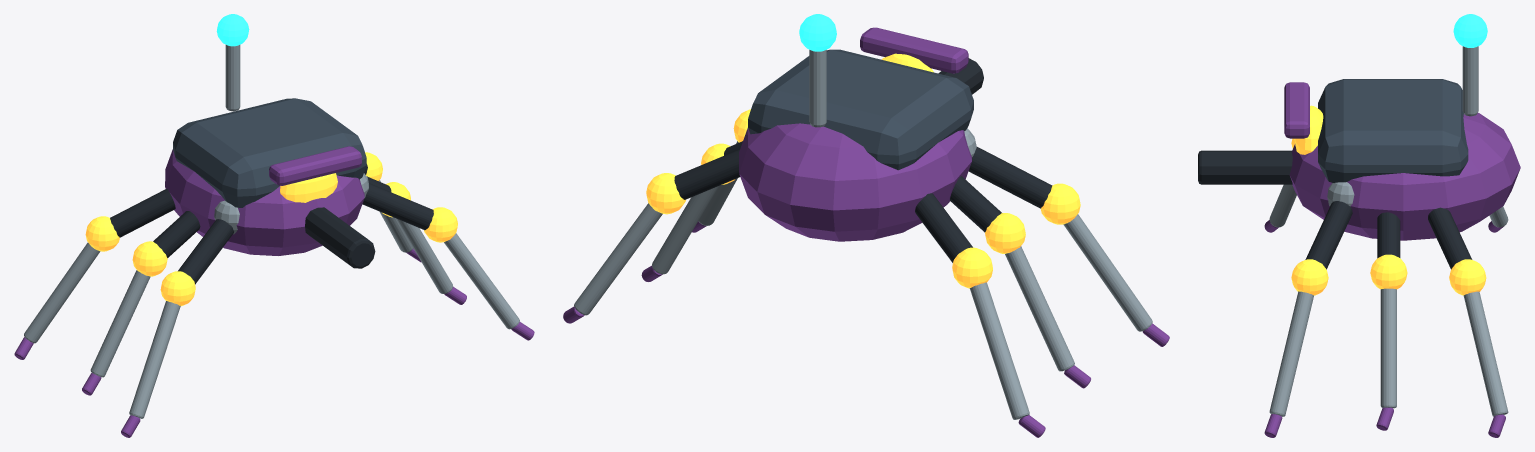
Rendered from mech_reaper.glb.
3 views of the same model, side by side, from view 1: azimuth 30°, elevation 25°; view 2: azimuth 150°, elevation 25°; view 3: azimuth 270°, elevation 25° (orthographic). The views are drawn at different scales.
Parts seen in each view (by area): view 1: Top armored carapace, Reaper central abdomen, Forward stinger cannon, Forward sensor brow, Lower pointed leg, Lower pointed leg.002, Lower pointed leg.001, Lower pointed leg.003, Upper articulated leg.003, Upper articulated leg.002, Upper articulated leg, Lower pointed leg.004 (+10 smaller); view 2: Reaper central abdomen, Top armored carapace, Forward sensor brow, Lower pointed leg.002, Lower pointed leg, Lower pointed leg.001, Lower pointed leg.005, Upper articulated leg, Upper articulated leg.005, Lower pointed leg.004, Upper articulated leg.002, Upper articulated leg.001 (+8 smaller); view 3: Top armored carapace, Reaper central abdomen, Forward stinger cannon, Lower pointed leg.003, Lower pointed leg.005, Lower pointed leg.004, Upper articulated leg.003, Forward sensor brow, Upper articulated leg.005, Rear sensor mast, Knee joint.005, Knee joint.004 (+6 smaller).
Boxes of the visible parts, box(x1,y1,x2,y2) form: Top armored carapace: box(173, 98, 366, 207); Reaper central abdomen: box(165, 149, 364, 255); Forward stinger cannon: box(305, 207, 375, 268); Forward sensor brow: box(269, 146, 361, 185); Lower pointed leg: box(129, 301, 180, 418); Lower pointed leg.002: box(24, 242, 100, 343); Lower pointed leg.001: box(90, 270, 150, 377); Lower pointed leg.003: box(444, 233, 519, 329); Upper articulated leg.003: box(362, 183, 433, 230); Upper articulated leg.002: box(110, 189, 175, 237); Upper articulated leg: box(178, 219, 233, 284); Lower pointed leg.004: box(395, 218, 453, 293); Reaper central abdomen: box(739, 123, 971, 241); Top armored carapace: box(748, 49, 973, 170); Forward sensor brow: box(860, 27, 968, 73); Lower pointed leg.002: box(969, 282, 1029, 419); Lower pointed leg: box(1063, 214, 1152, 331); Lower pointed leg.001: box(1005, 246, 1074, 371); Lower pointed leg.005: box(574, 203, 662, 315); Upper articulated leg: box(968, 147, 1052, 208); Upper articulated leg.005: box(674, 149, 740, 199); Lower pointed leg.004: box(652, 186, 718, 274); Upper articulated leg.002: box(915, 193, 972, 262); Upper articulated leg.001: box(950, 176, 1001, 232); Top armored carapace: box(1318, 79, 1468, 182); Reaper central abdomen: box(1289, 112, 1520, 240); Forward stinger cannon: box(1198, 150, 1292, 184); Lower pointed leg.003: box(1269, 291, 1313, 416); Lower pointed leg.005: box(1463, 291, 1508, 416); Lower pointed leg.004: box(1380, 288, 1396, 408); Upper articulated leg.003: box(1305, 201, 1352, 269); Forward sensor brow: box(1284, 82, 1309, 138); Upper articulated leg.005: box(1428, 207, 1472, 269); Rear sensor mast: box(1462, 46, 1478, 116); Knee joint.005: box(1370, 254, 1407, 289); Knee joint.004: box(1291, 259, 1328, 295).
Bounding box in the file's own units: 3.49 × 2.46 × 2.25.
